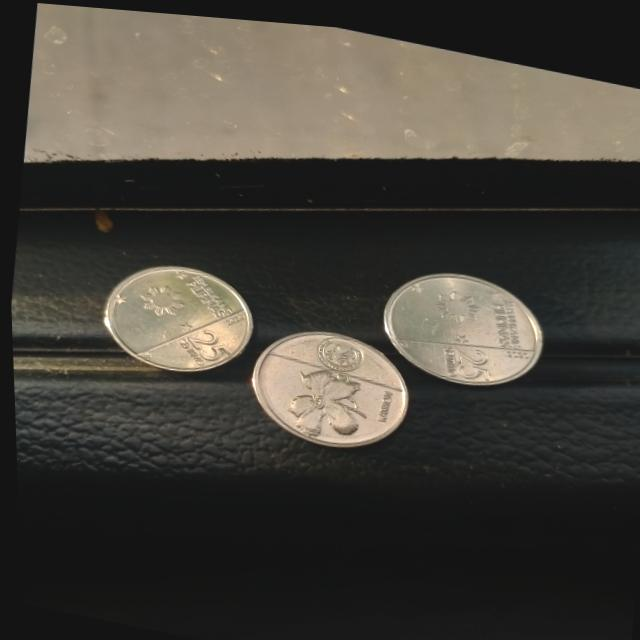25Cent_New_Back: (278, 358, 367, 439)
25Cent_New_Front: (432, 331, 495, 379), (169, 318, 227, 369)
